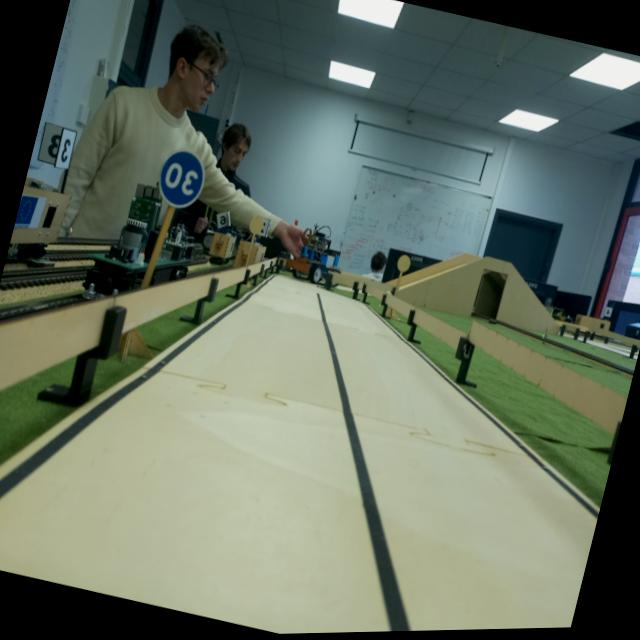obstacle_voiture: (292, 226, 346, 289)
panneau-limitation30: (150, 146, 208, 215)
